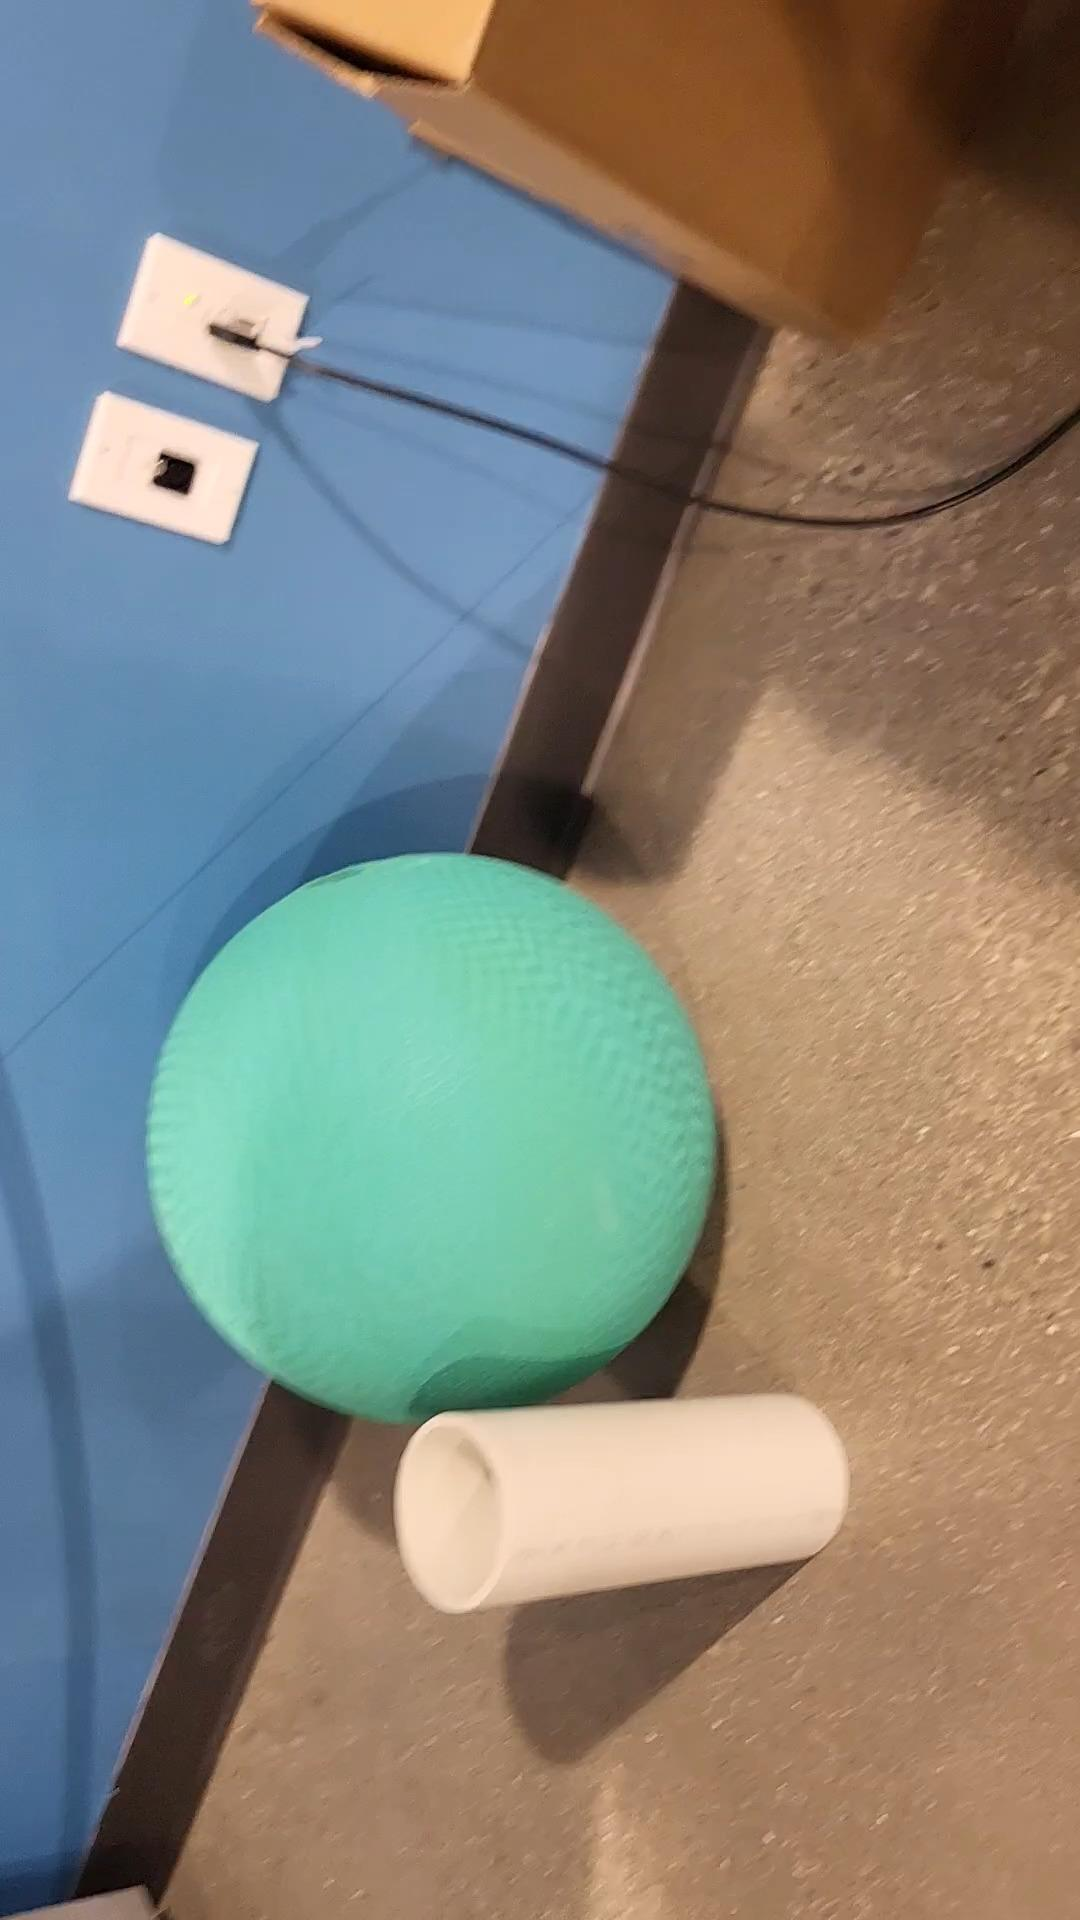algae: (153, 852, 717, 1428)
coral: (397, 1395, 845, 1613)
